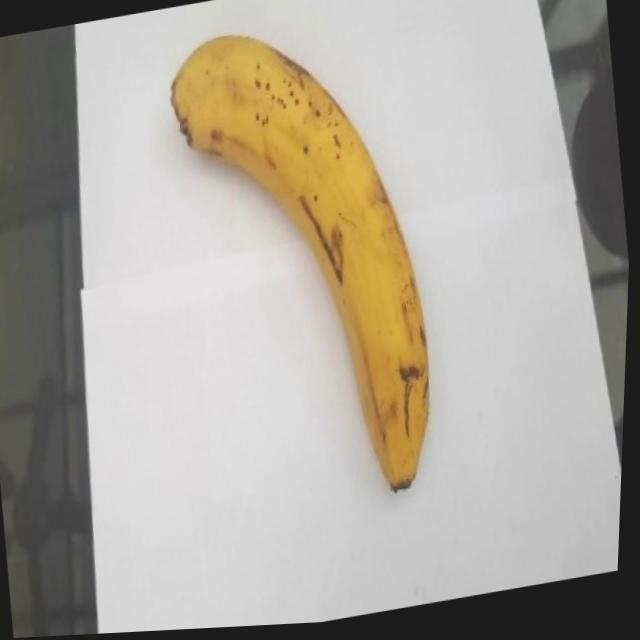Banana: (150, 5, 457, 529)
